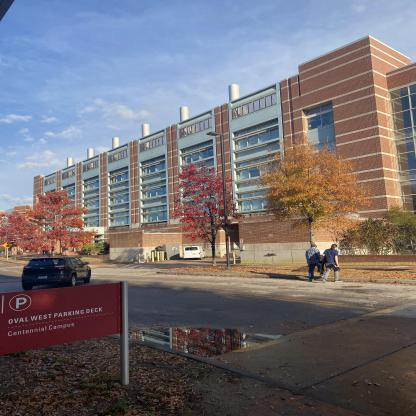EB-1: (35, 45, 415, 272)
